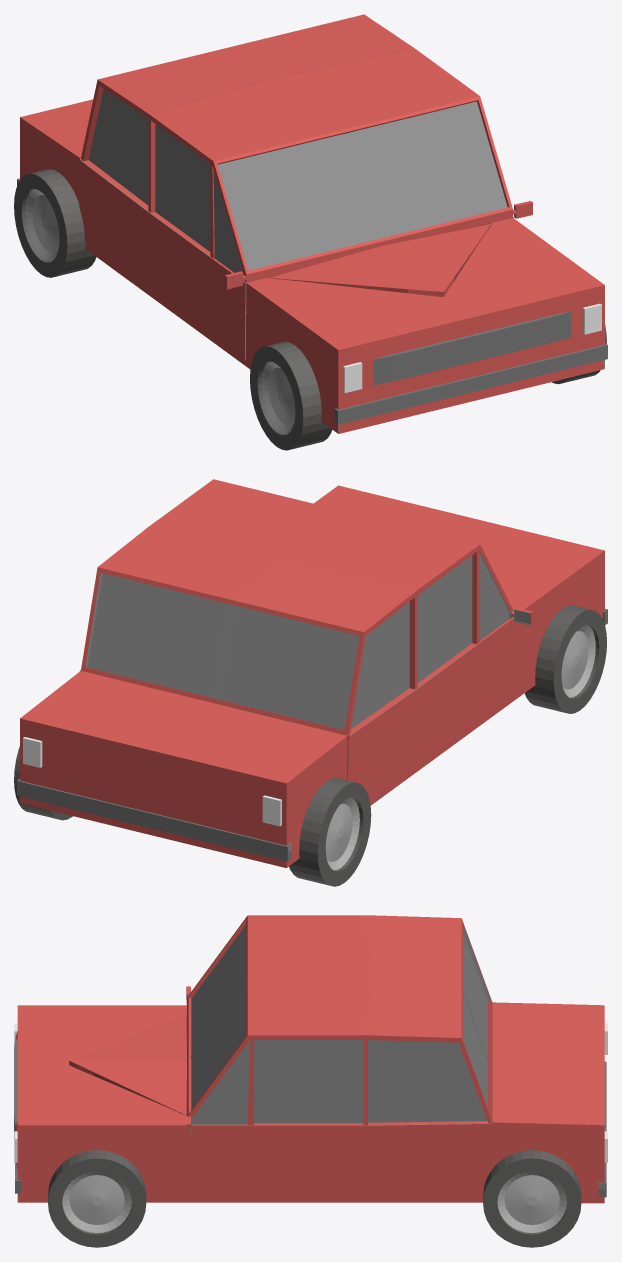
The model's file is Jigul_with_wheels.fbx.
3 views of the same model, one above another, from view 1: azimuth 30°, elevation 25°; view 2: azimuth 150°, elevation 25°; view 3: azimuth 270°, elevation 25° (orthographic). The views are drawn at different scales.
Visible parts, largest first — view 1: Cube, Цилиндр.002, Цилиндр.001; view 2: Cube, Цилиндр.002, Цилиндр.001, Цилиндр; view 3: Cube, Цилиндр.004, Цилиндр.
Boxes of the visible parts, box(x1,y1,x2,y2) form: Cube: box(17, 14, 607, 433); Цилиндр.002: box(250, 341, 332, 450); Цилиндр.001: box(14, 169, 96, 277); Cube: box(17, 479, 607, 867); Цилиндр.002: box(524, 605, 606, 713); Цилиндр.001: box(289, 778, 371, 886); Цилиндр: box(14, 746, 72, 820); Cube: box(14, 915, 607, 1203); Цилиндр.004: box(48, 1150, 146, 1247); Цилиндр: box(483, 1150, 581, 1247).
Size of the model in its own units: 34.67 by 23.93 by 63.15.
